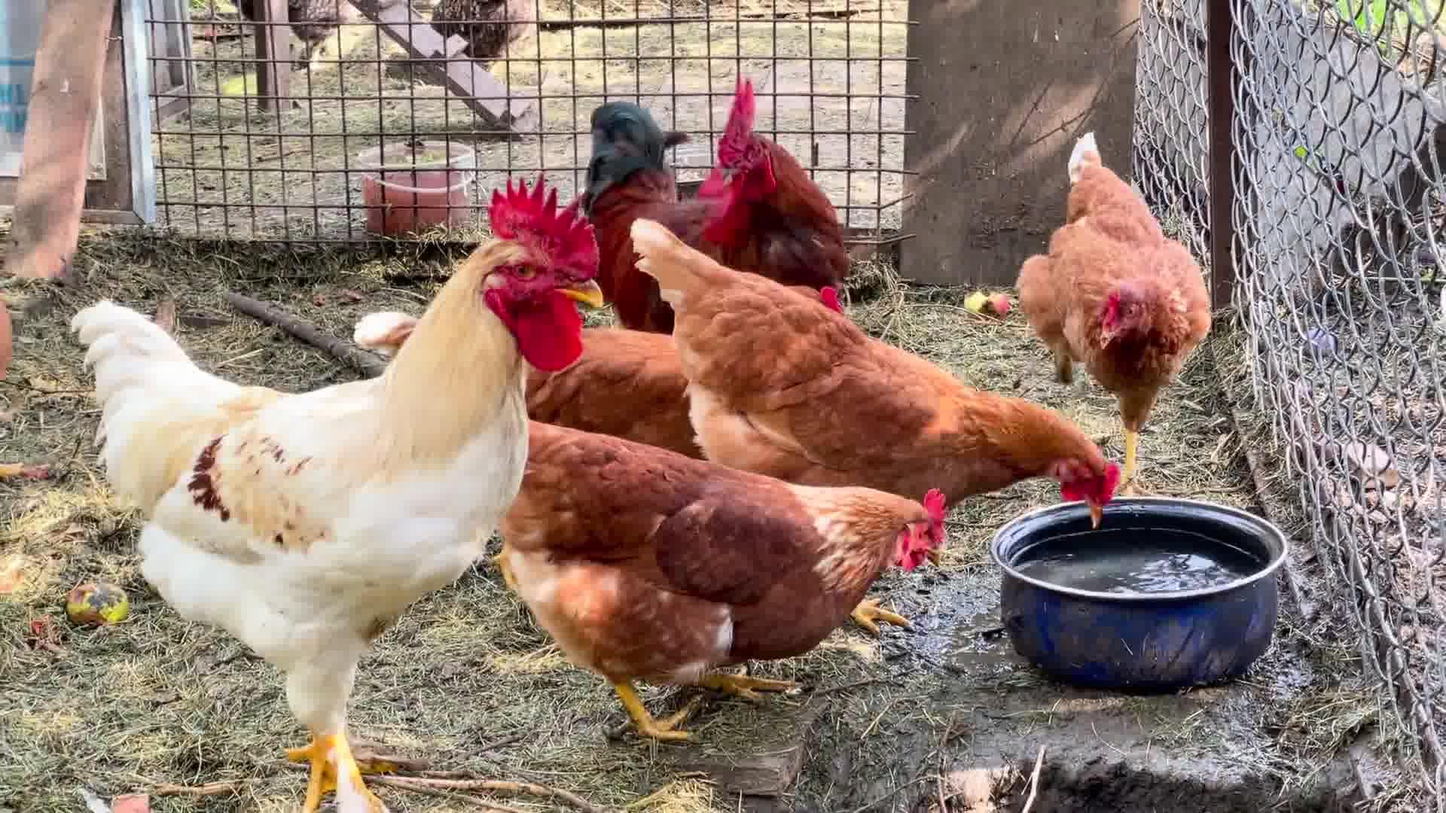Normal: (68, 172, 605, 813), (635, 215, 1123, 577), (529, 396, 954, 744), (996, 126, 1233, 480), (573, 72, 875, 324)
